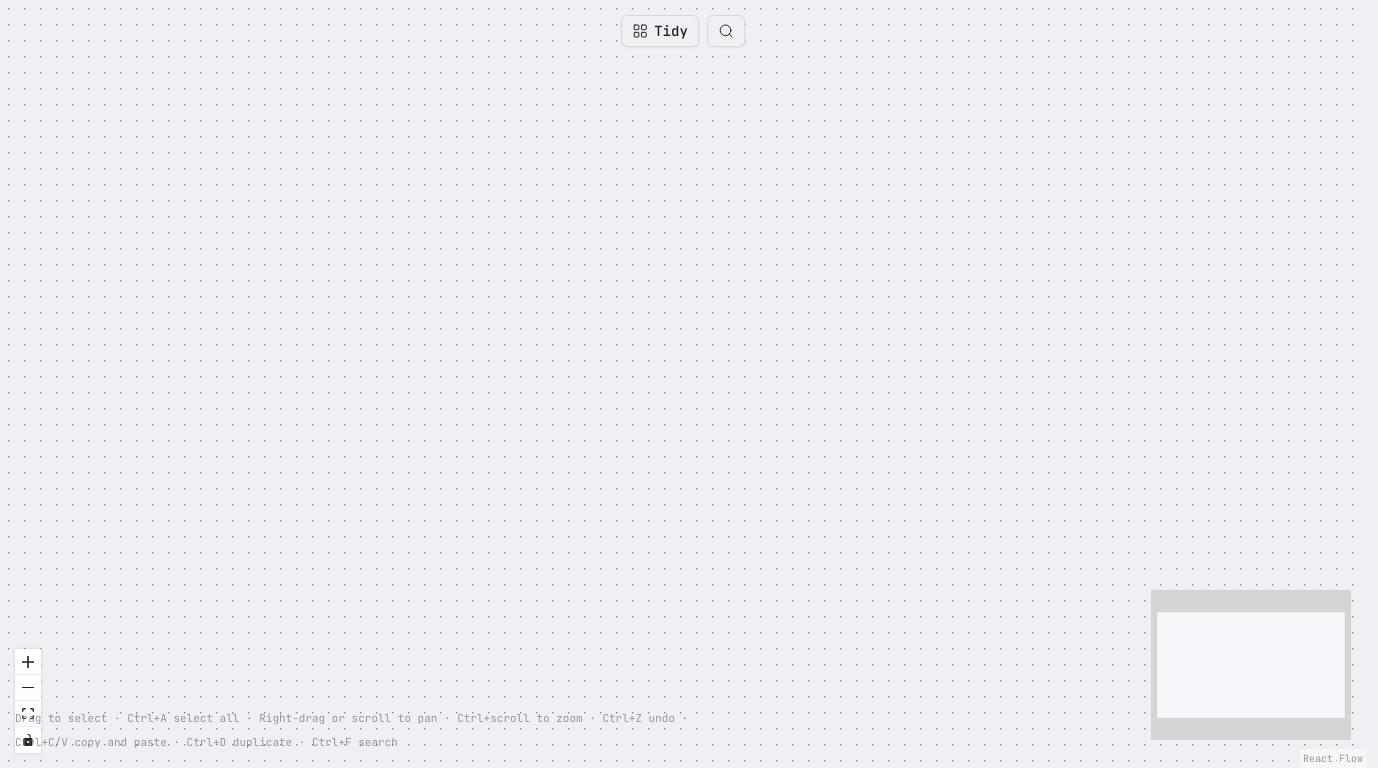
Test: FlowCanvas search › selects nothing and does not zoom when there is no match
Press f in the element with test id "flow-canvas"
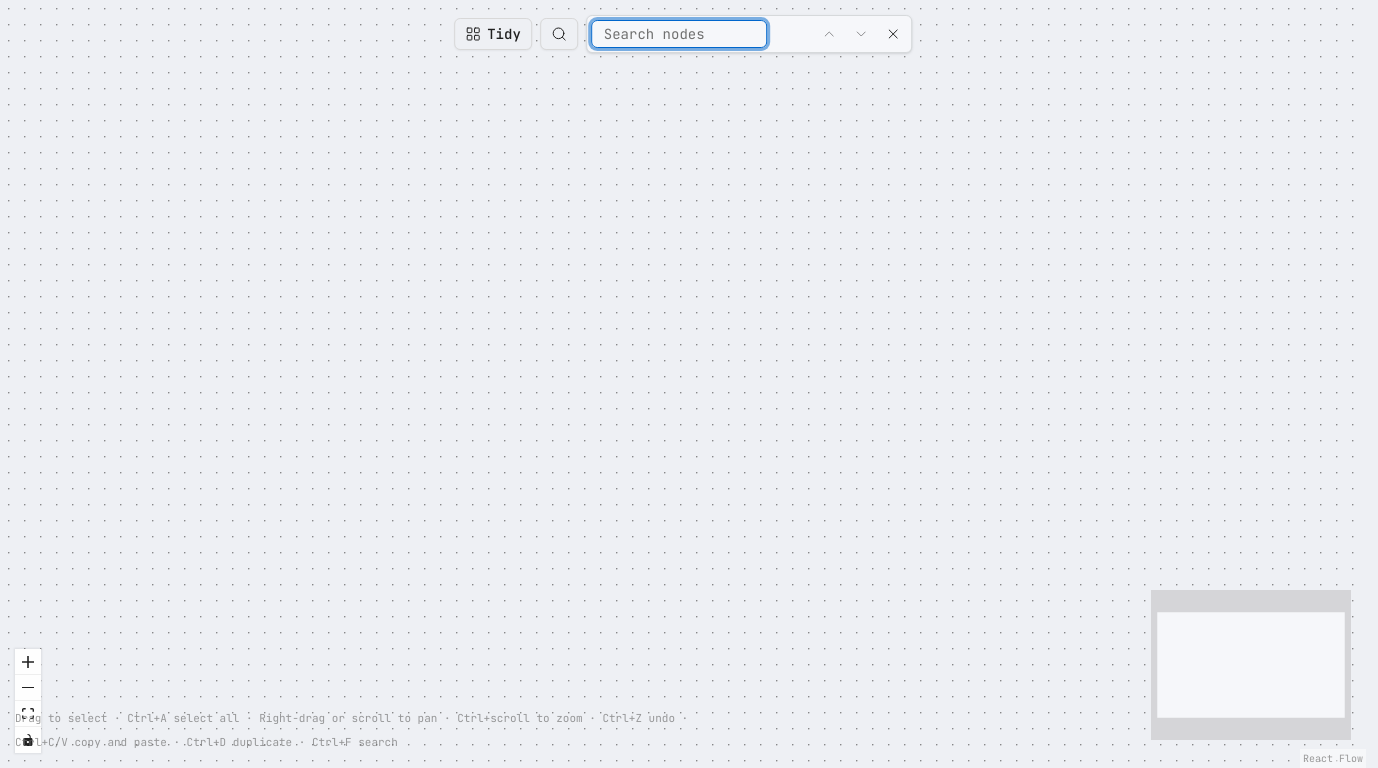
Type "zzz" into the field labelled "Search nodes" at (679,34), box [591,20,767,48]
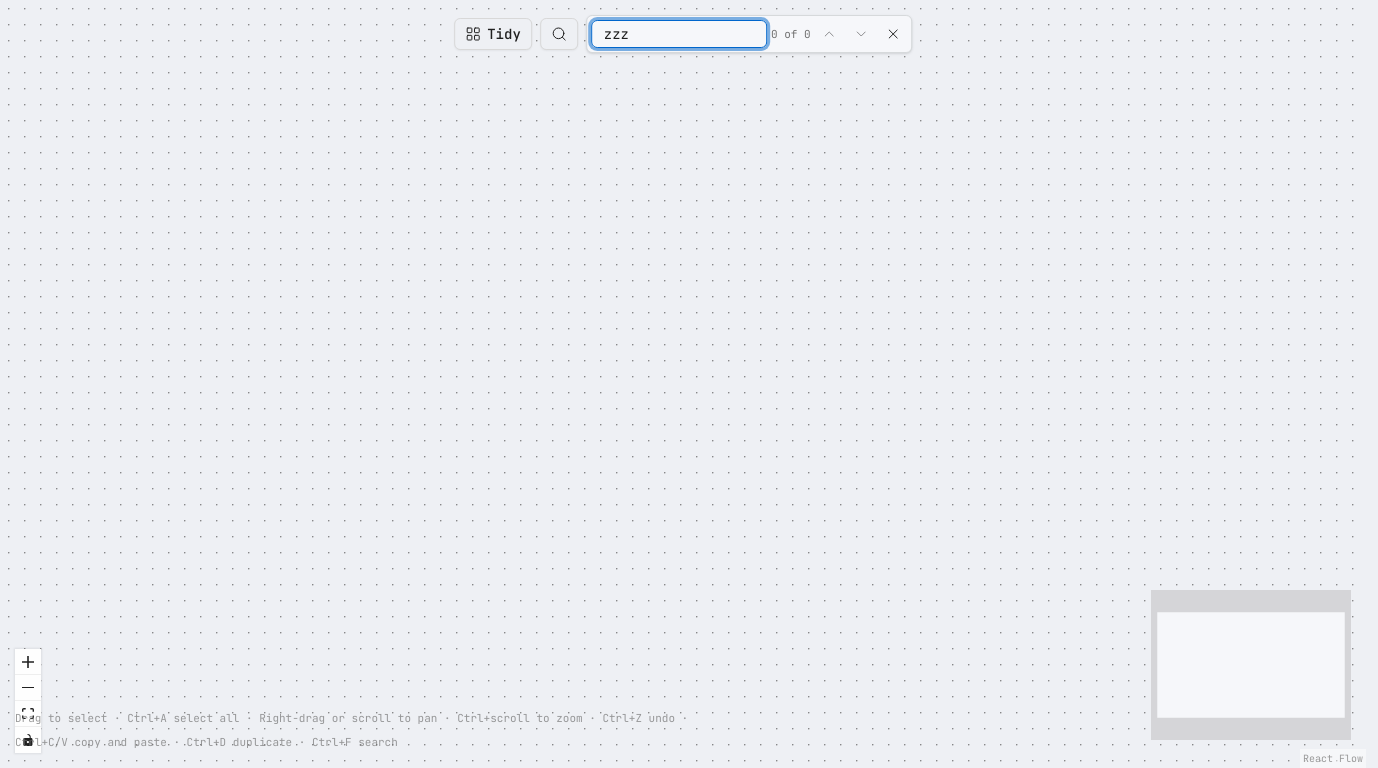
Now the message reads "0 of 0", box [771,27,811,41]
